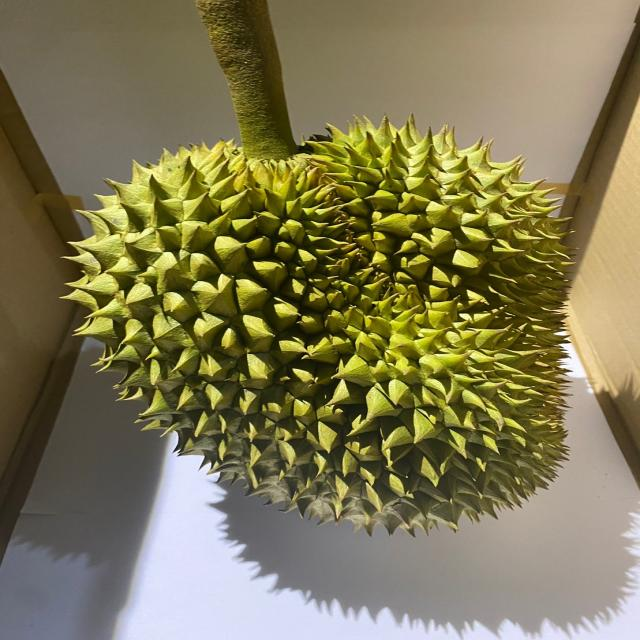immature: (68, 113, 578, 540)
